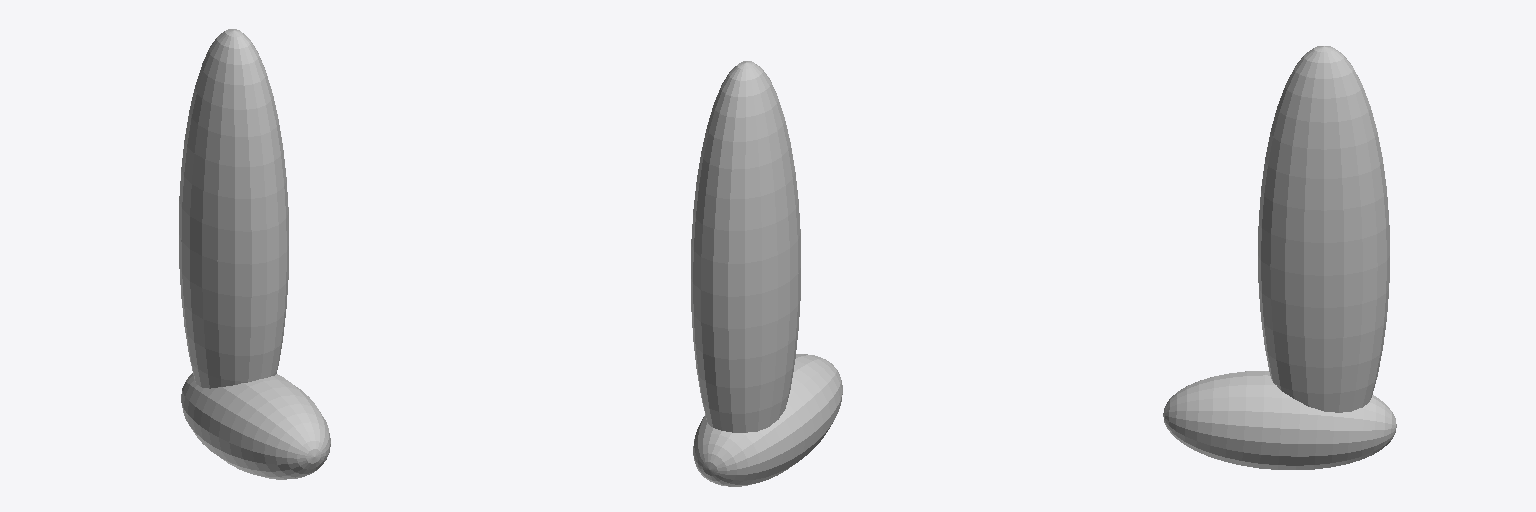
The model's file is legandfeet.obj.
3 renders of one model, left to right at view 1: azimuth 30°, elevation 25°; view 2: azimuth 150°, elevation 25°; view 3: azimuth 270°, elevation 25°, orthographic.
Visible parts, largest first — view 1: Leg_and_Feet:pSphere2 Leg_and_Feet:polySurface1, Leg_and_Feet:group3 Leg_and_Feet:pasted__pSphere2 Leg_and_Feet:p; view 2: Leg_and_Feet:pSphere2 Leg_and_Feet:polySurface1, Leg_and_Feet:group3 Leg_and_Feet:pasted__pSphere2 Leg_and_Feet:p; view 3: Leg_and_Feet:pSphere2 Leg_and_Feet:polySurface1, Leg_and_Feet:group3 Leg_and_Feet:pasted__pSphere2 Leg_and_Feet:p.
Boxes of the visible parts, box(x1,y1,x2,y2) form: Leg_and_Feet:pSphere2 Leg_and_Feet:polySurface1: box(179, 29, 288, 388); Leg_and_Feet:group3 Leg_and_Feet:pasted__pSphere2 Leg_and_Feet:p: box(181, 373, 330, 479); Leg_and_Feet:pSphere2 Leg_and_Feet:polySurface1: box(691, 61, 800, 432); Leg_and_Feet:group3 Leg_and_Feet:pasted__pSphere2 Leg_and_Feet:p: box(693, 354, 842, 486); Leg_and_Feet:pSphere2 Leg_and_Feet:polySurface1: box(1258, 46, 1389, 412); Leg_and_Feet:group3 Leg_and_Feet:pasted__pSphere2 Leg_and_Feet:p: box(1163, 371, 1396, 469).
Bounding box in the file's own units: 0.4741 × 2.02 × 1.02.